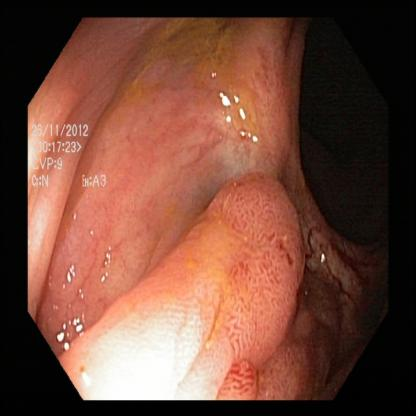Labels: (27, 120, 112, 193)
Polyps: (200, 154, 305, 356)
